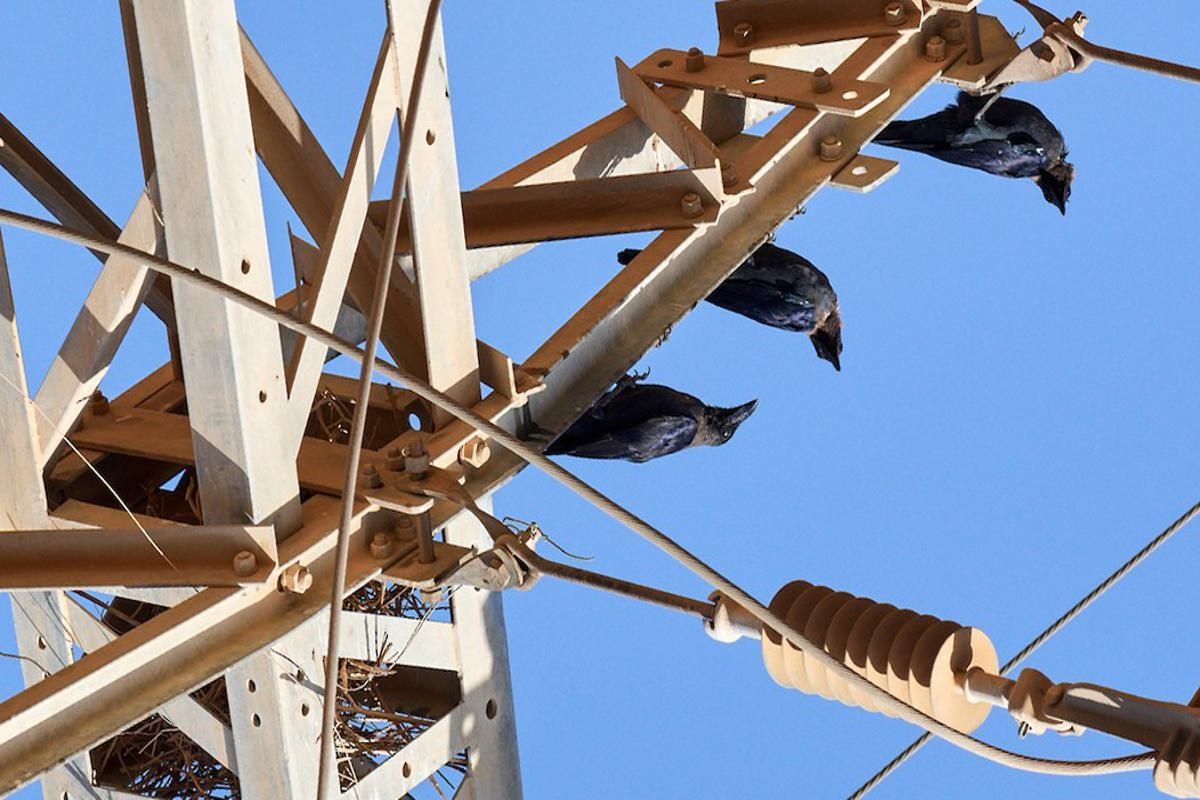crow: (875, 80, 1120, 219), (704, 224, 866, 379), (557, 386, 779, 468)
